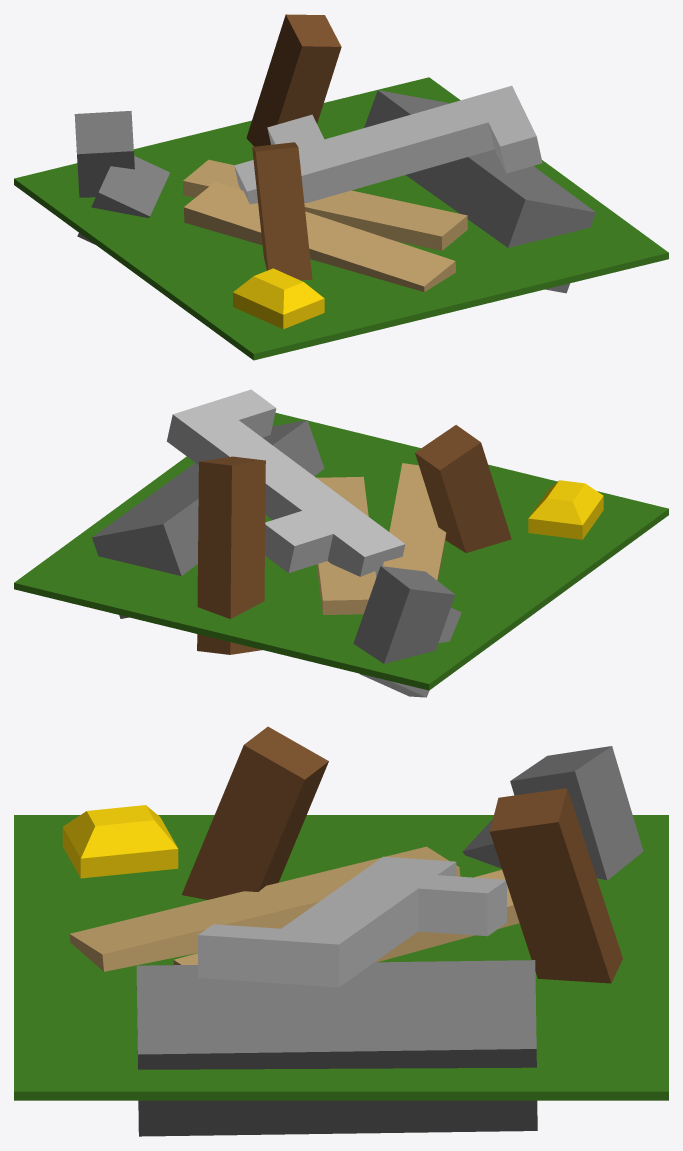
File: broken_building_4x4.glb
3 views of the same model, one above another, from view 1: azimuth 30°, elevation 25°; view 2: azimuth 150°, elevation 25°; view 3: azimuth 270°, elevation 25° (orthographic). The views are drawn at different scales.
Visible parts, largest first — view 1: Plane.002; view 2: Plane.002; view 3: Plane.002.
Part boxes in pixels (x1,y1,x2,y2): Plane.002: (14, 14, 668, 360); Plane.002: (14, 389, 668, 697); Plane.002: (14, 726, 668, 1136).
Bounding box in the file's own units: 4 × 1.86 × 4.
